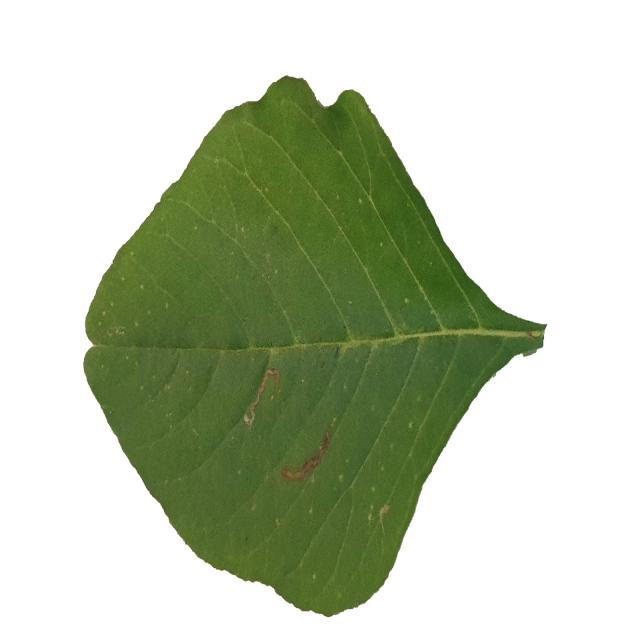Medicinal-Arive Dantu: (77, 67, 545, 618)
